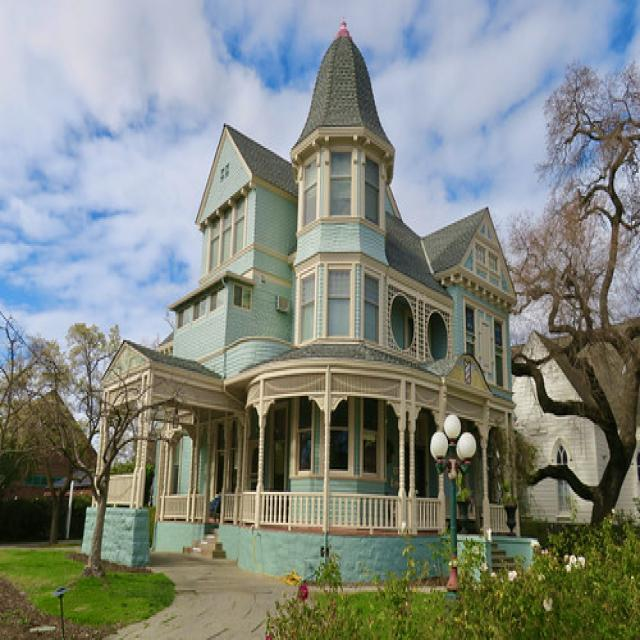building: (75, 23, 529, 596)
